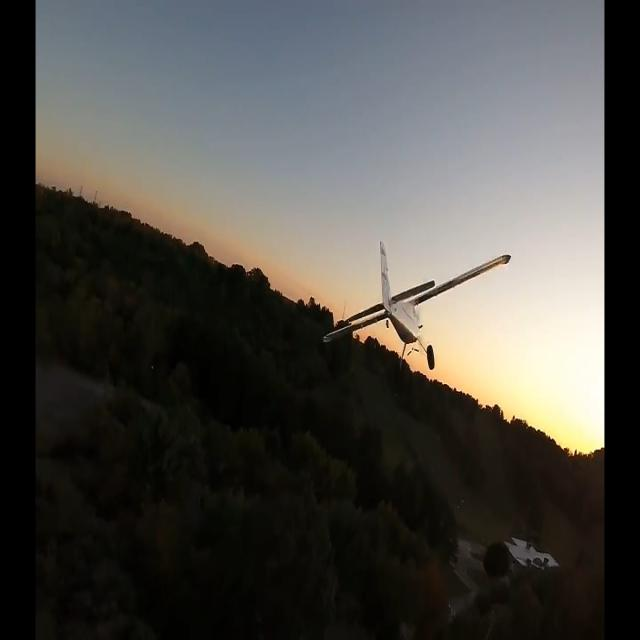iha: (320, 239, 513, 370)
